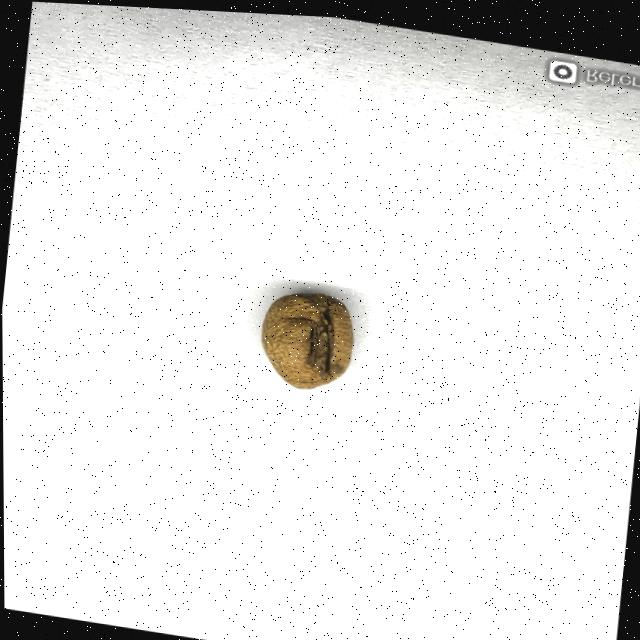Quaker: (254, 281, 358, 394)
